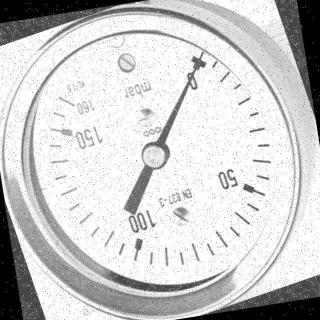gauge: (0, 0, 319, 320), (175, 48, 217, 90), (138, 140, 171, 172), (55, 89, 89, 120), (188, 61, 202, 75)
